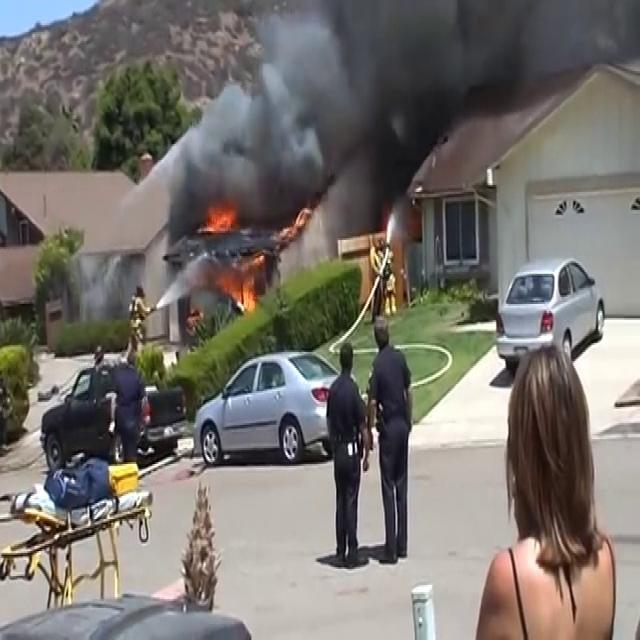Fire: (200, 200, 240, 239)
Smoke: (166, 0, 640, 240), (166, 1, 494, 241)
